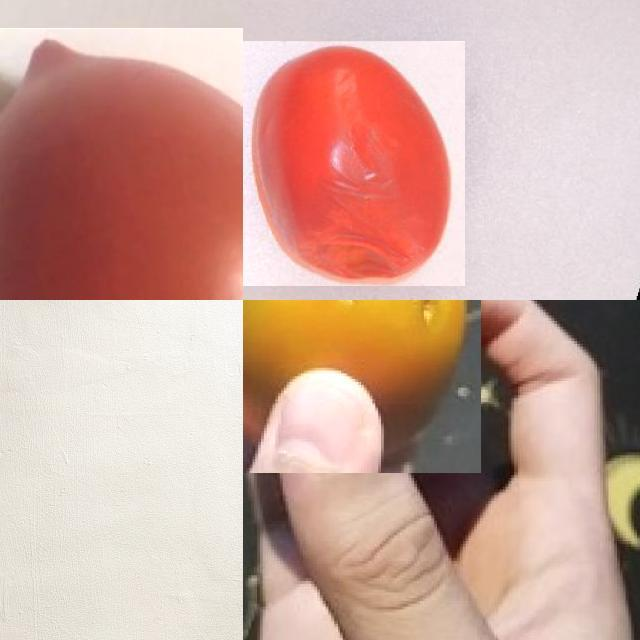Fresh Tomato: (0, 28, 243, 300)
Rotten Tomato: (243, 41, 465, 286), (243, 300, 480, 472)
